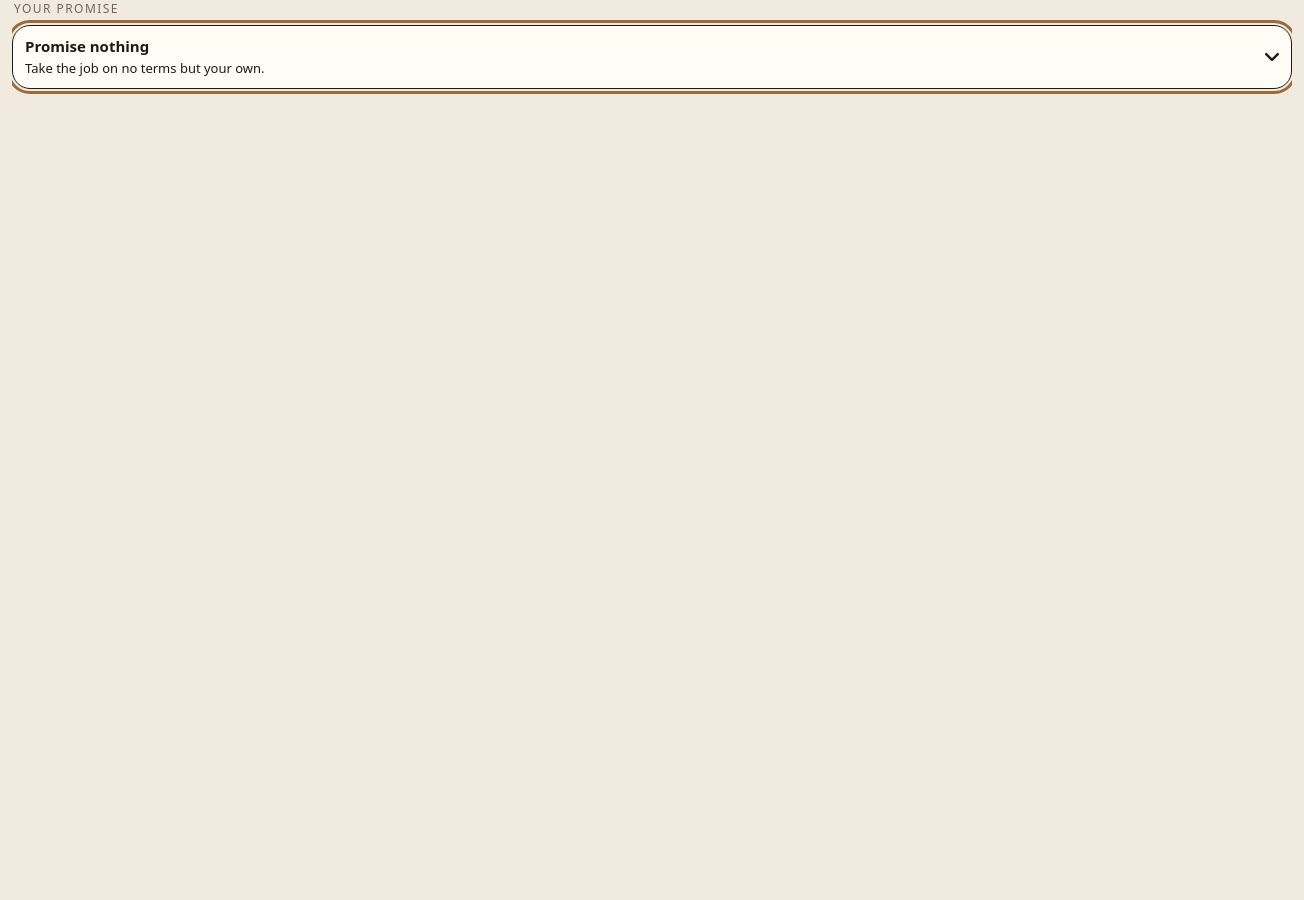
your promise › opens in place with every other promise and what it costs
Click the button with class "mandate-current" at coordinates (87, 46), box [12,25,1292,89]
(page scrolled)
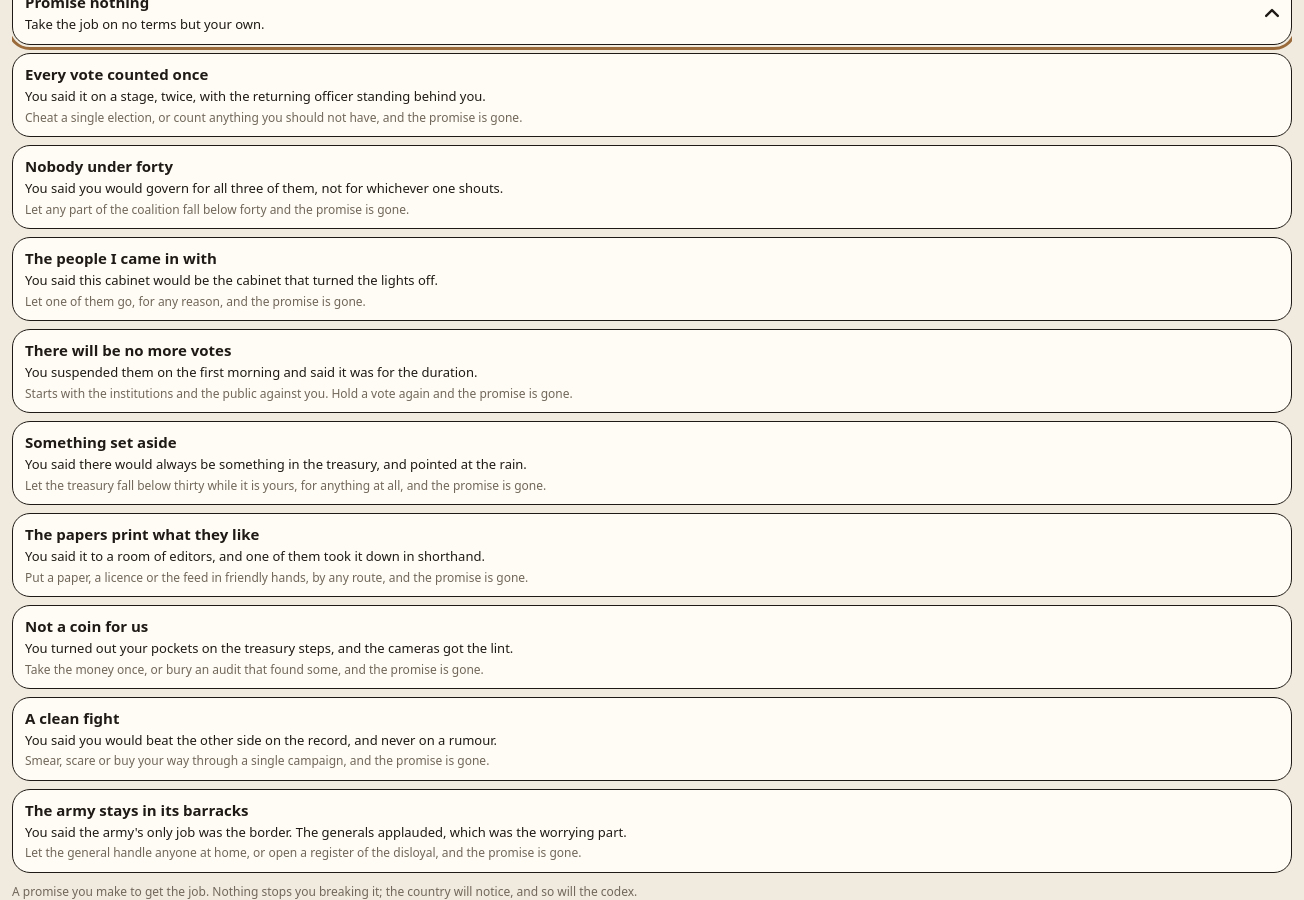
Expected: the button "Every vote counted once" shows "Cheat a single election, or count anything you should not have, and the promise is gone.", [12,53,1292,137]
Expected: the button "Nobody under forty" shows "Let any part of the coalition fall below forty and the promise is gone.", [12,145,1292,229]
Expected: the button "The people I came in with" shows "Let one of them go, for any reason, and the promise is gone.", [12,237,1292,321]
